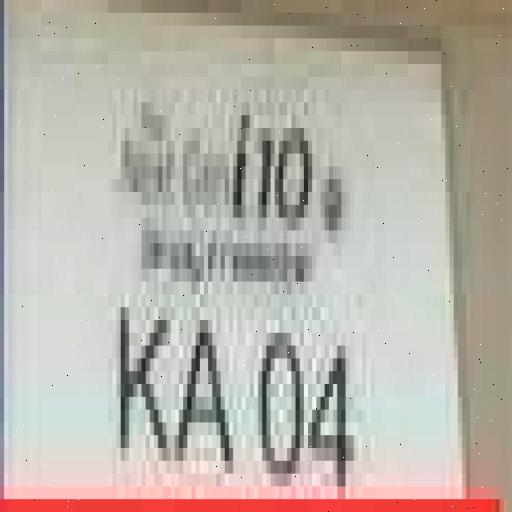number plate: (16, 40, 510, 488)
